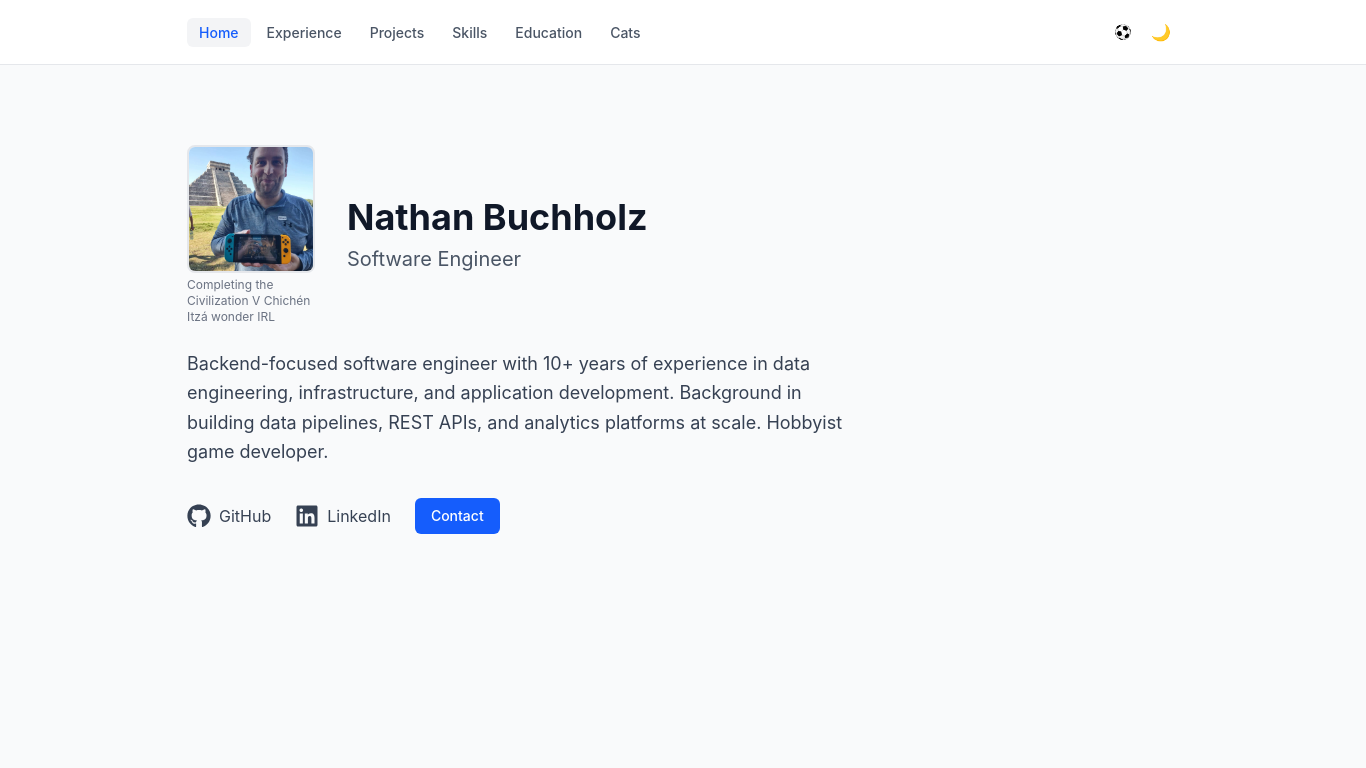
Test: Contact Modal › shows error on failed submission
Click the button "Contact" at (458, 516), box x1=415 y1=498 x2=500 y2=534
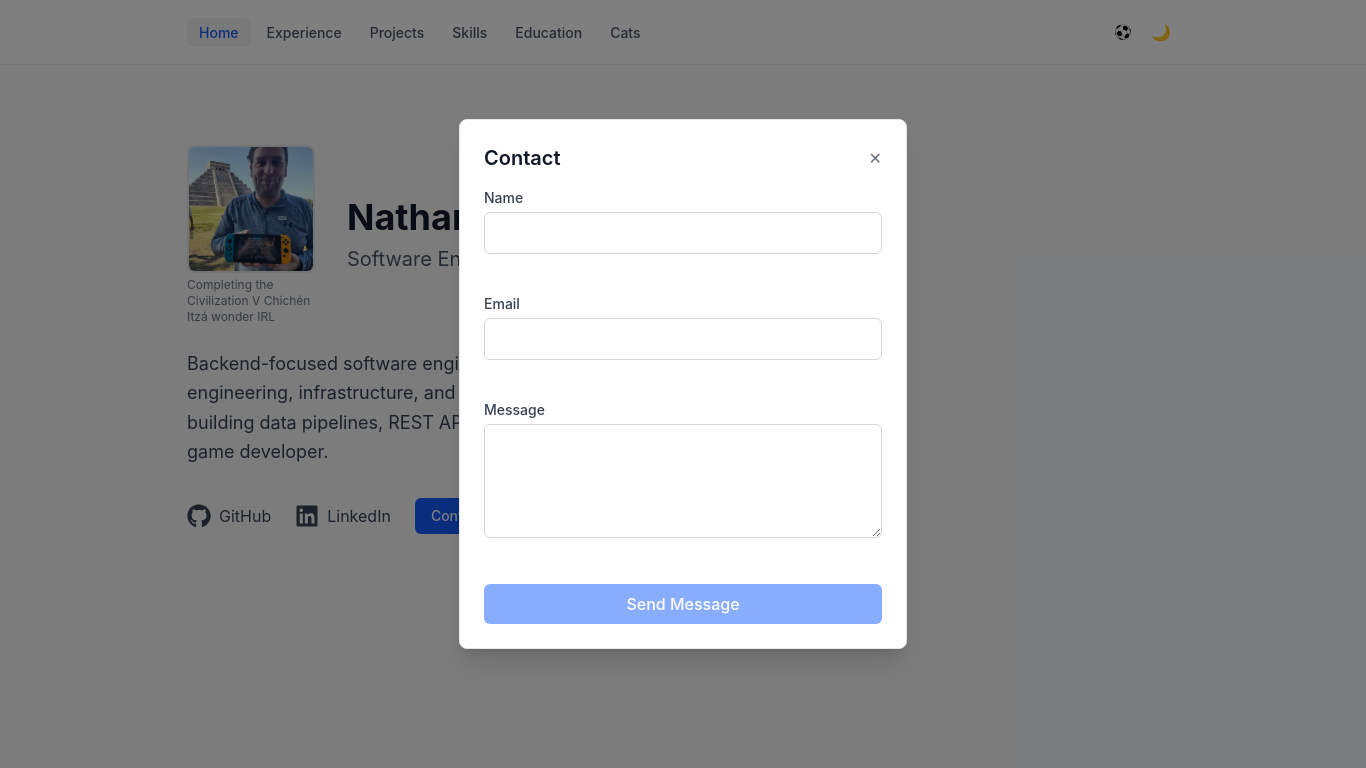
Type "Test User" into the field with id "contact-name" at (683, 233), box x1=484 y1=212 x2=882 y2=254
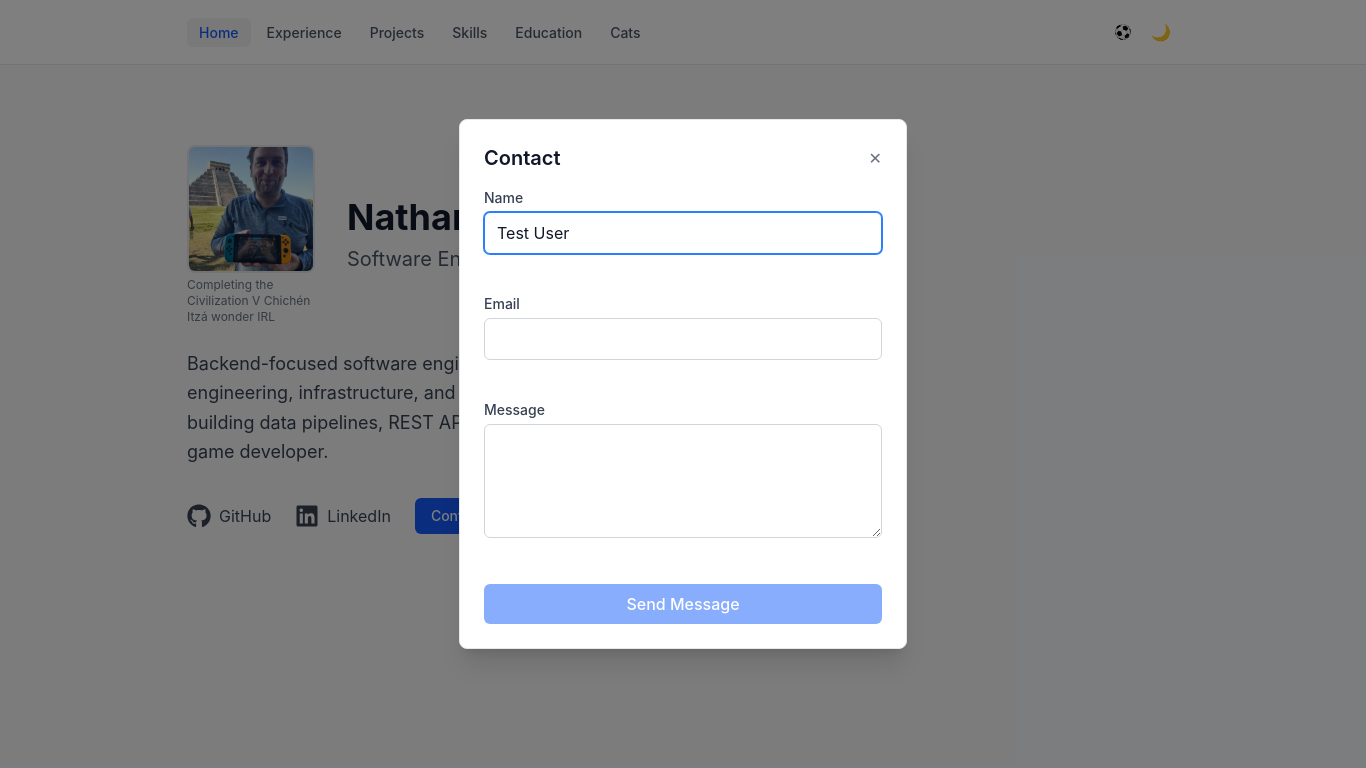
Type "test@example.com" into the field with id "contact-email" at (683, 339), box x1=484 y1=318 x2=882 y2=360
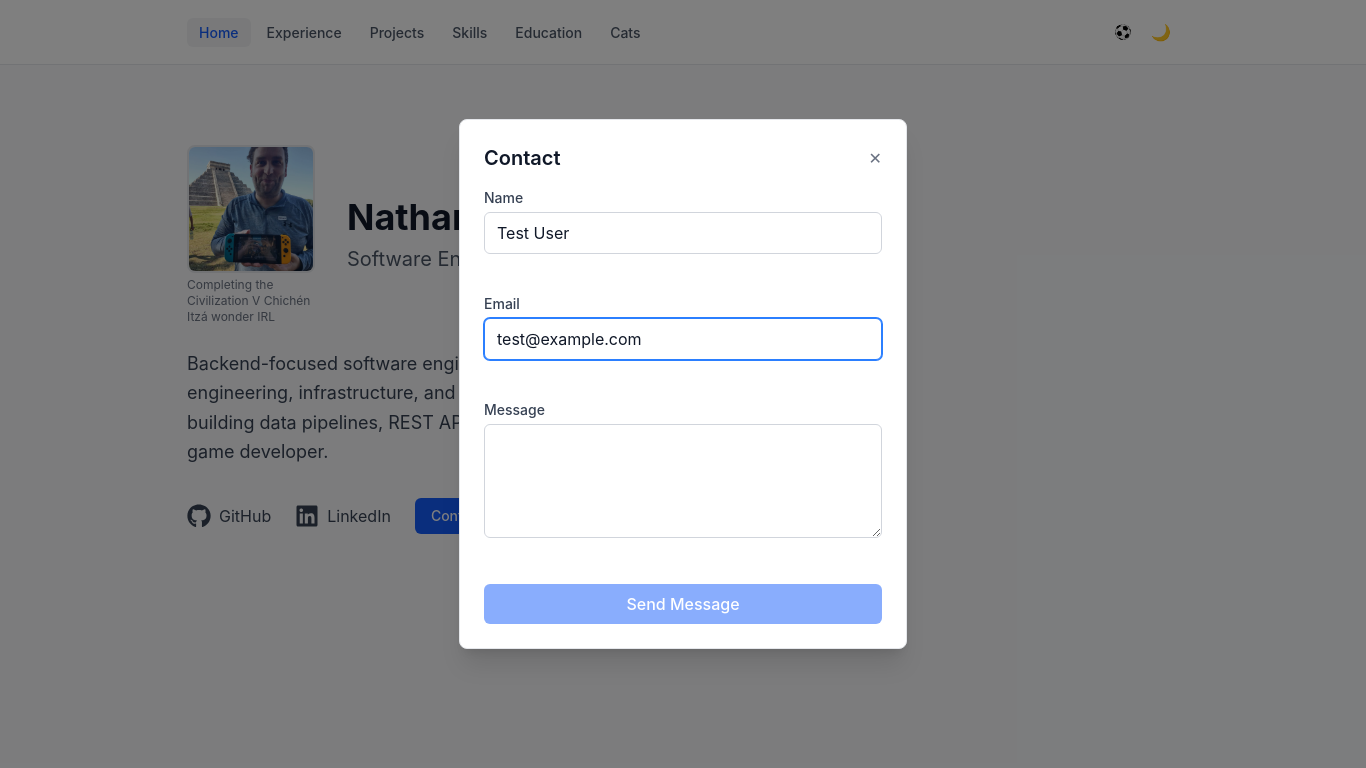
Type "Hello from Cypress" into the text box with id "contact-message" at (683, 481), box x1=484 y1=424 x2=882 y2=538
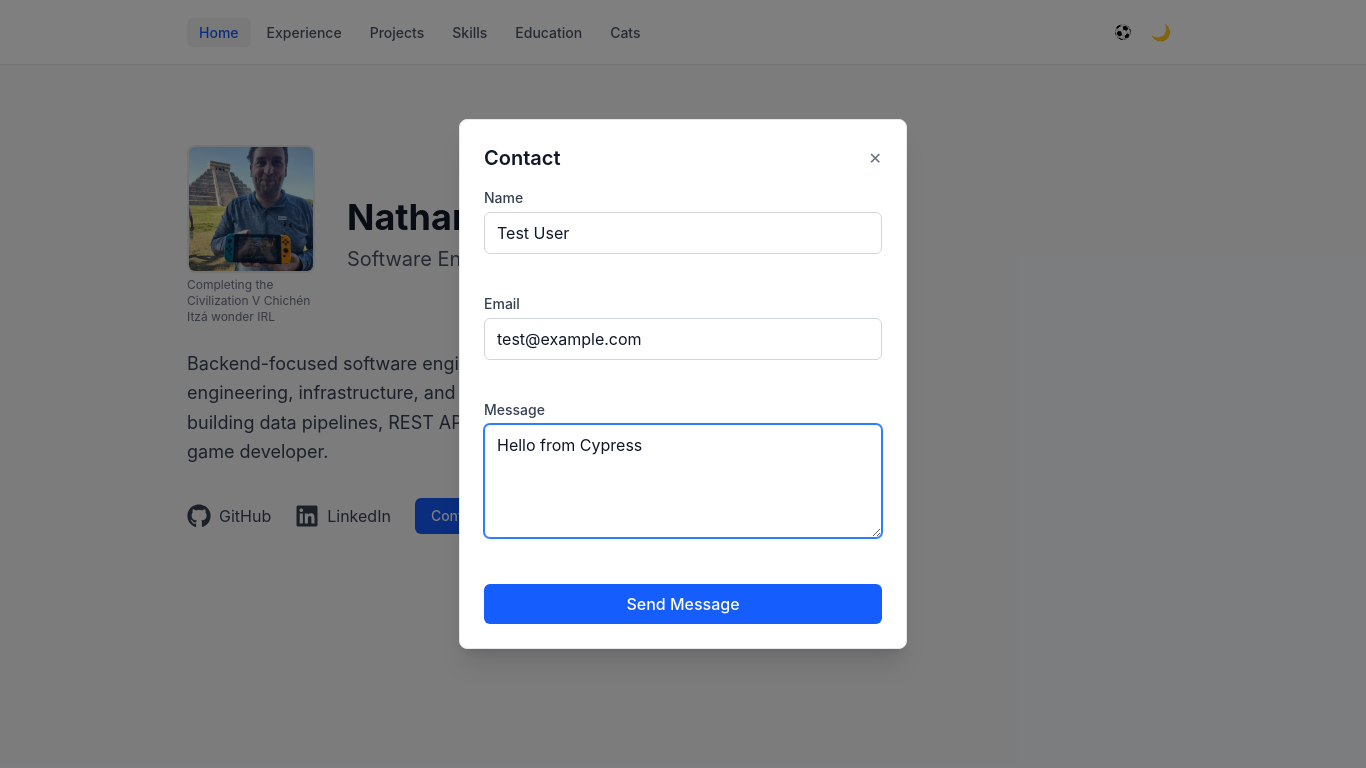
Click the submit button at (683, 604), box x1=484 y1=584 x2=882 y2=624
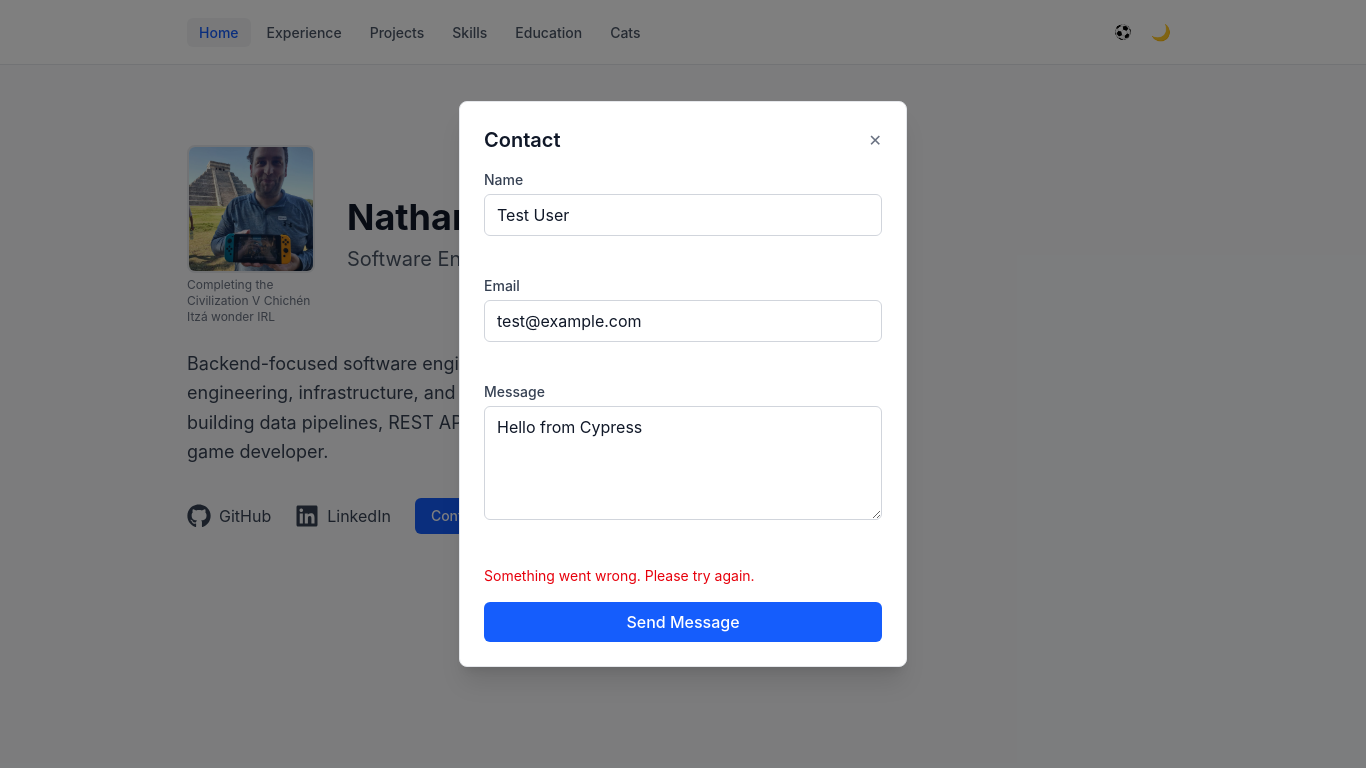
Now the text "Something went wrong" is shown, box x1=484 y1=567 x2=755 y2=584
